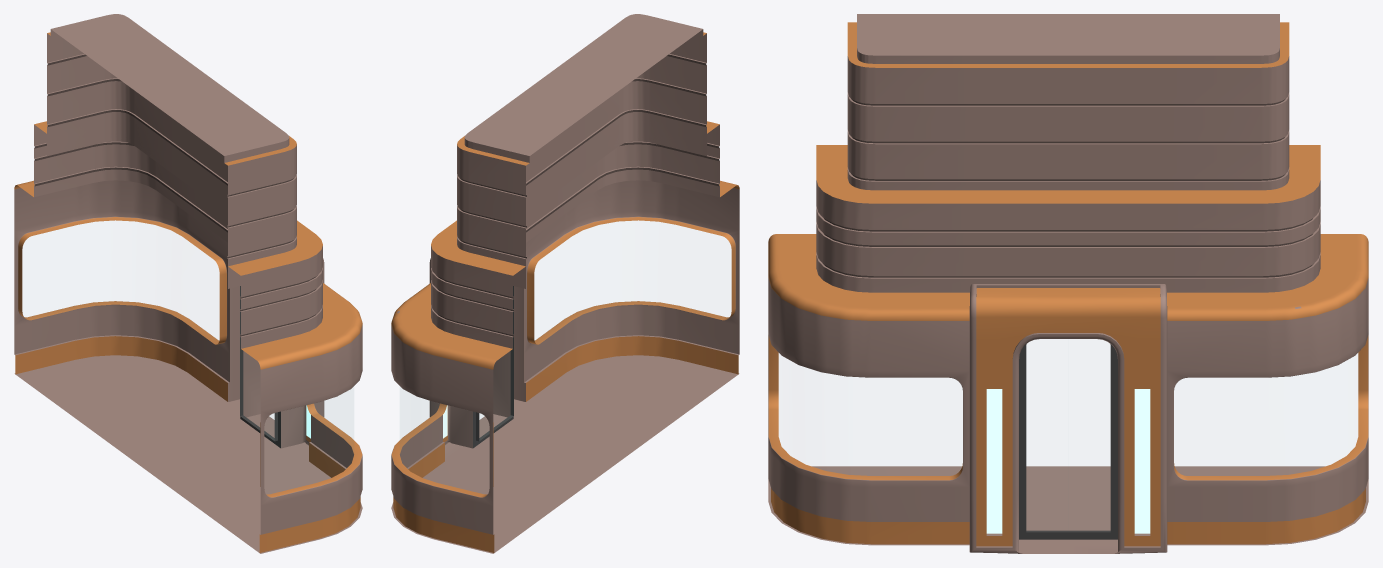
The model's file is Facade_ReworkedHouse.fbx.
The picture shows the model from 3 angles, left to right: view 1: azimuth 30°, elevation 25°; view 2: azimuth 150°, elevation 25°; view 3: azimuth 270°, elevation 25°; orthographic projection. The views are drawn at different scales.
Visible parts, largest first — view 1: Facade; view 2: Facade; view 3: Facade.
Part boxes in pixels (<box>): Facade: <box>14,14,362,553</box>; Facade: <box>391,14,739,553</box>; Facade: <box>768,14,1368,553</box>.
Bounding box in the file's own units: 303 × 729 × 877.
